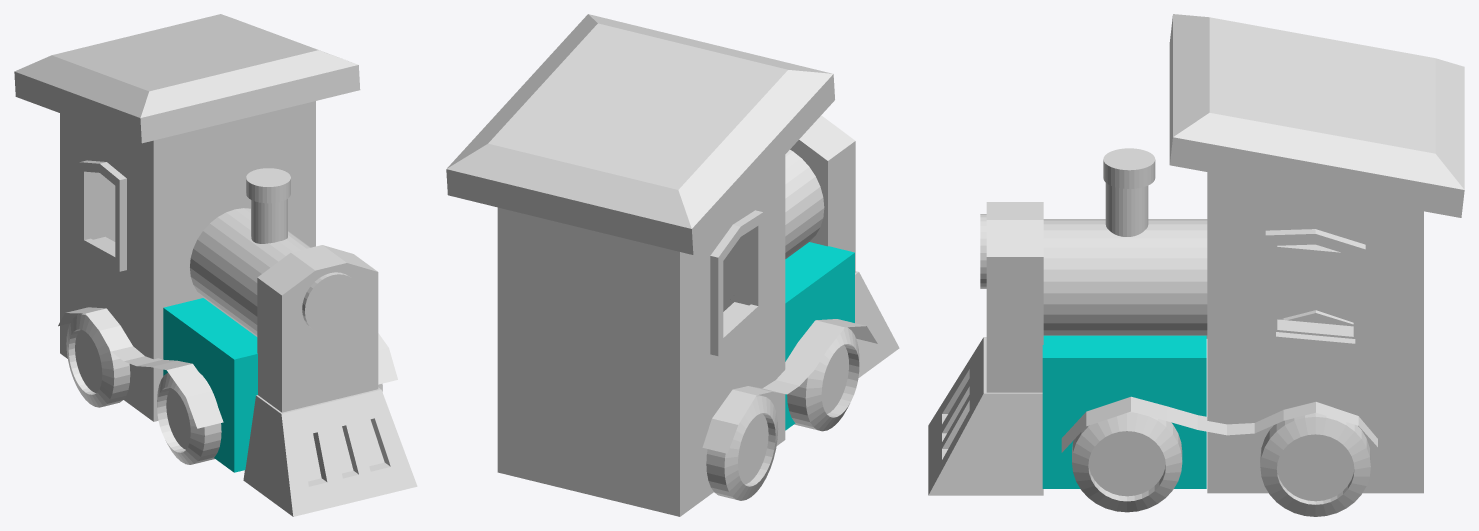
The model's file is train.fbx.
The picture shows the model from 3 angles, left to right: view 1: azimuth 30°, elevation 25°; view 2: azimuth 150°, elevation 25°; view 3: azimuth 270°, elevation 25°; orthographic projection. The views are drawn at different scales.
Visible parts, largest first — view 1: Cube, Cube.002, Cube.003, Cube.001, Cylinder, Cylinder.005, Plane.001, Cylinder.006, Cylinder.007, Cylinder.001, Cylinder.002, Plane; view 2: Cube, Cube.001, Cube.003, Plane.001, Cylinder.005, Cylinder.006, Cylinder, Cube.002; view 3: Cube, Cylinder, Cube.001, Cube.002, Cube.003, Cylinder.003, Cylinder.004, Plane, Cylinder.001, Cylinder.002.
Boxes of the visible parts, x1,y1,x2,y2 form: Cube: [14, 14, 360, 421]; Cube.002: [243, 387, 417, 516]; Cube.003: [257, 245, 378, 412]; Cube.001: [163, 298, 257, 472]; Cylinder: [190, 208, 310, 336]; Cylinder.005: [66, 313, 130, 407]; Plane.001: [58, 307, 223, 428]; Cylinder.006: [157, 372, 221, 464]; Cylinder.007: [302, 272, 360, 334]; Cylinder.001: [251, 199, 287, 243]; Cylinder.002: [246, 168, 290, 203]; Plane: [378, 333, 397, 384]; Cube: [446, 14, 834, 516]; Cube.001: [785, 242, 854, 430]; Cube.003: [790, 115, 855, 272]; Plane.001: [702, 319, 877, 453]; Cylinder.005: [706, 395, 778, 500]; Cylinder.006: [787, 327, 859, 431]; Cylinder: [723, 150, 824, 303]; Cube.002: [855, 271, 899, 377]; Cube: [1169, 14, 1464, 493]; Cylinder: [1043, 219, 1207, 338]; Cube.001: [1042, 335, 1206, 488]; Cube.002: [928, 337, 1043, 495]; Cube.003: [986, 202, 1043, 392]; Cylinder.003: [1260, 412, 1370, 516]; Cylinder.004: [1072, 411, 1182, 512]; Plane: [1061, 396, 1377, 452]; Cylinder.001: [1105, 183, 1148, 236]; Cylinder.002: [1103, 148, 1155, 188].
Size of the model in its own units: 54.66 by 82.1 by 101.
